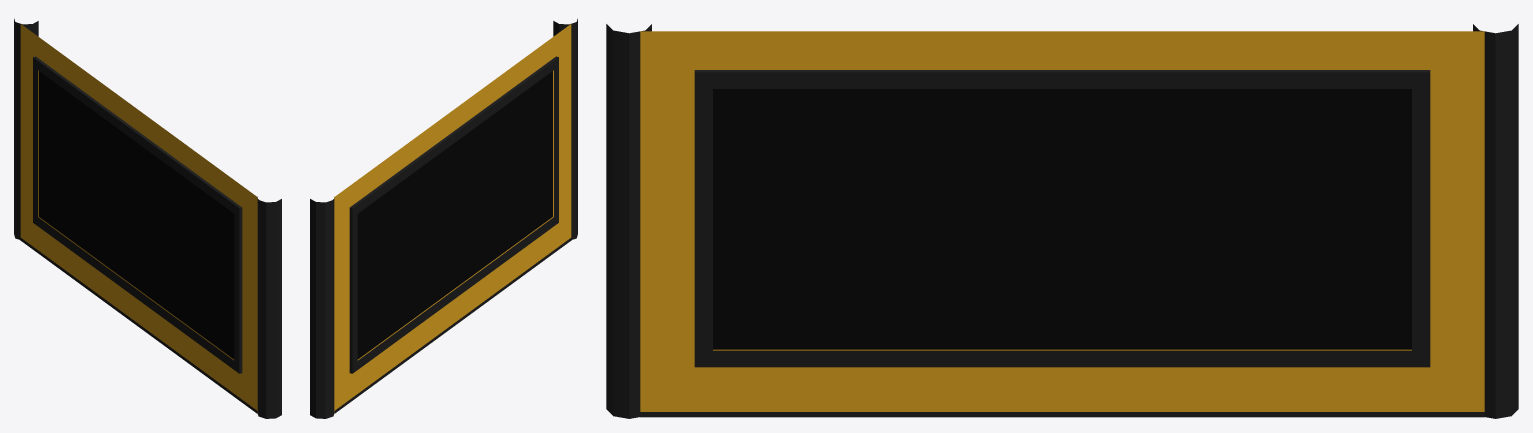
The model's file is dfi_small.glb.
3 views of the same model, side by side, from view 1: azimuth 30°, elevation 25°; view 2: azimuth 150°, elevation 25°; view 3: azimuth 270°, elevation 25° (orthographic). The views are drawn at different scales.
Visible parts, largest first — view 1: DfiModule; view 2: DfiModule; view 3: DfiModule.
Boxes of the visible parts, x1,y1,x2,y2 form: DfiModule: (14, 18, 281, 418); DfiModule: (310, 18, 577, 418); DfiModule: (606, 24, 1518, 418).
Size of the model in its own units: 0.032 by 0.28 by 0.6.
